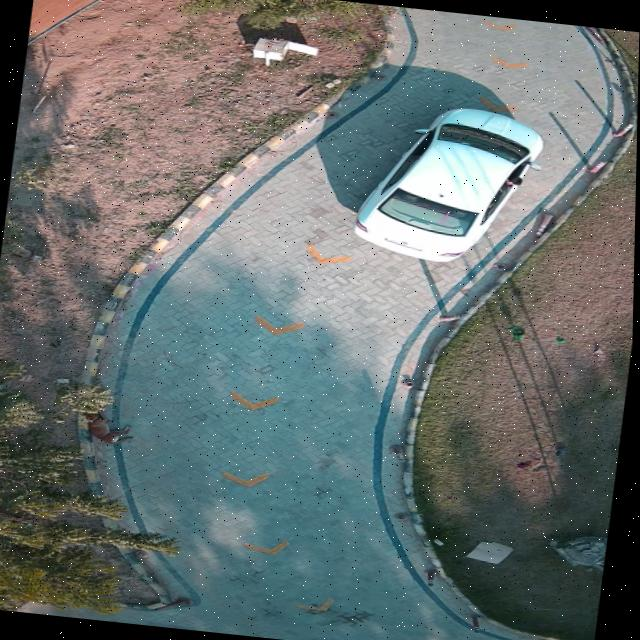car: (352, 107, 545, 262)
